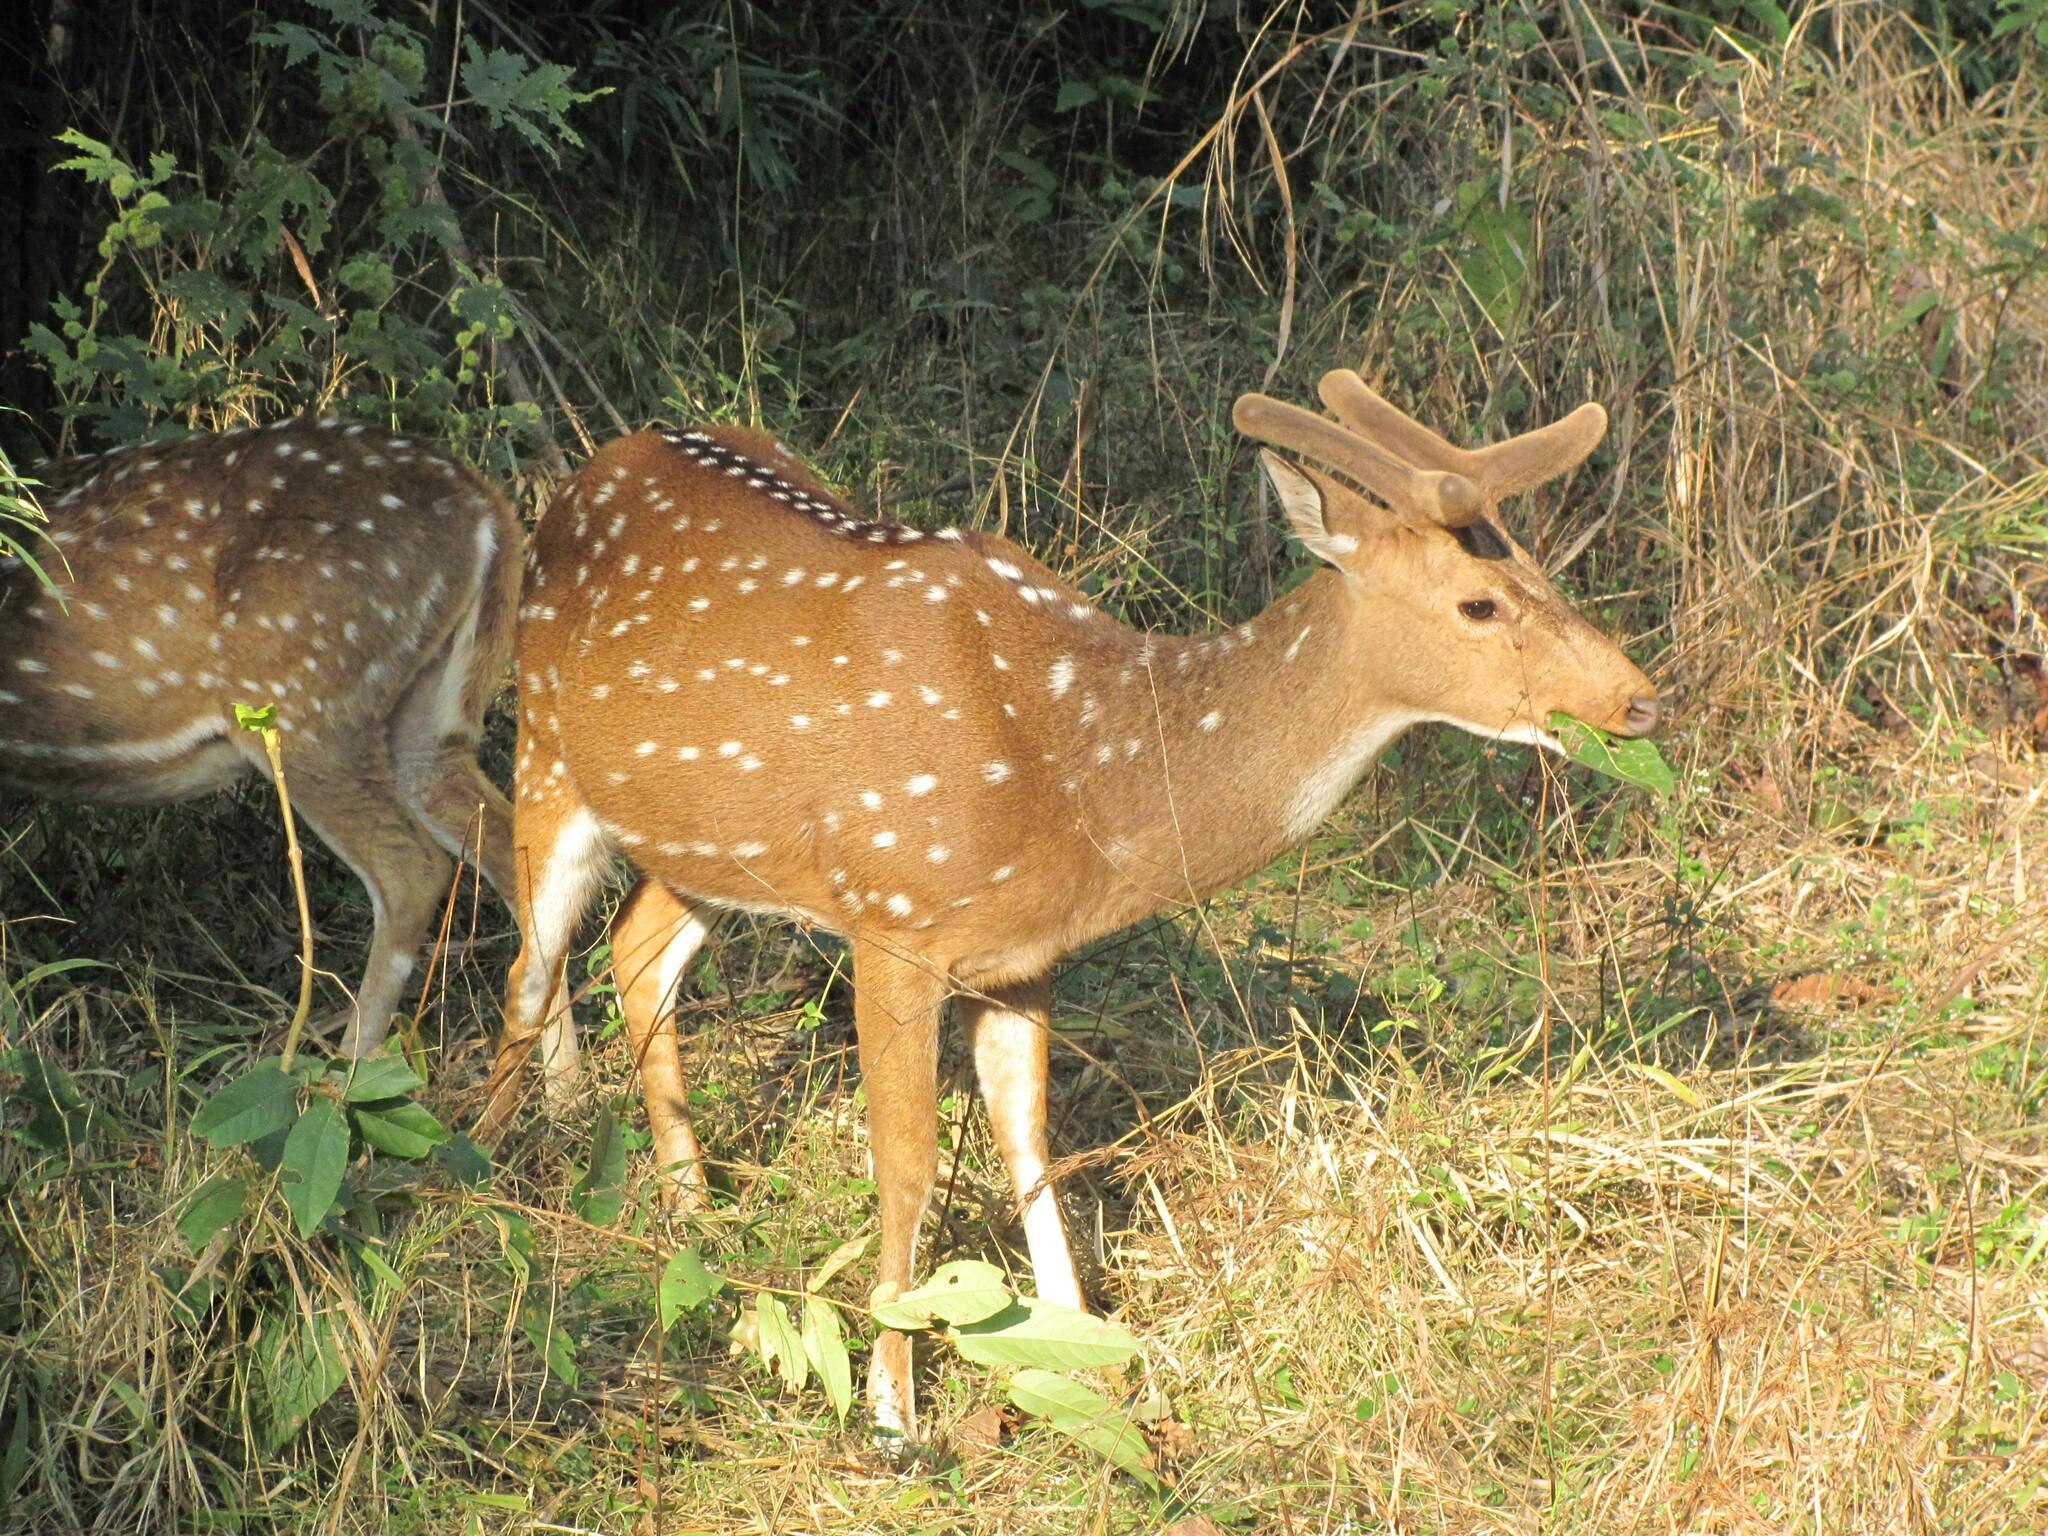Deer: (508, 369, 1659, 1305), (0, 419, 522, 1057)
